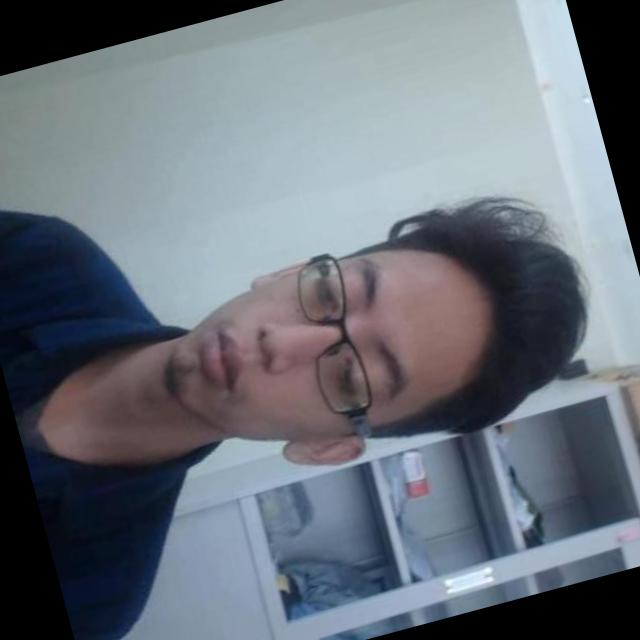bareface: (126, 205, 527, 492)
